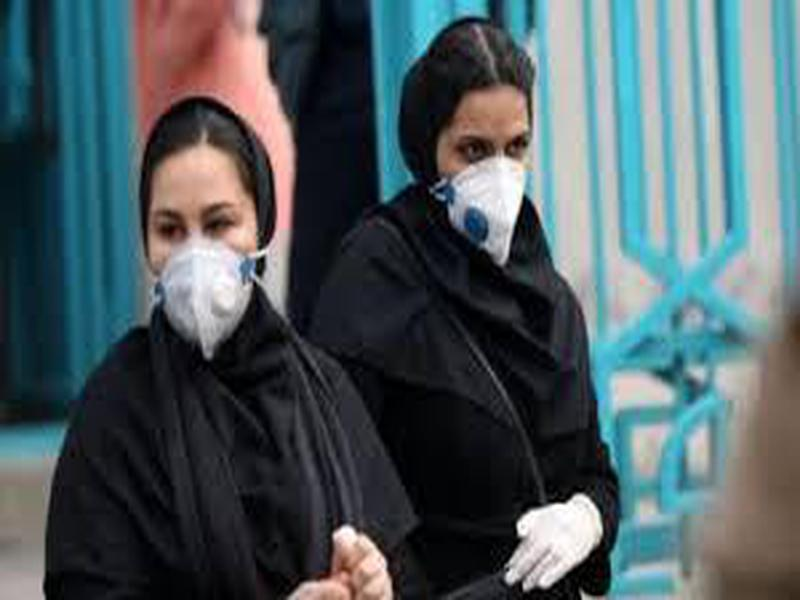with_mask: (141, 99, 274, 361), (405, 20, 540, 266)
